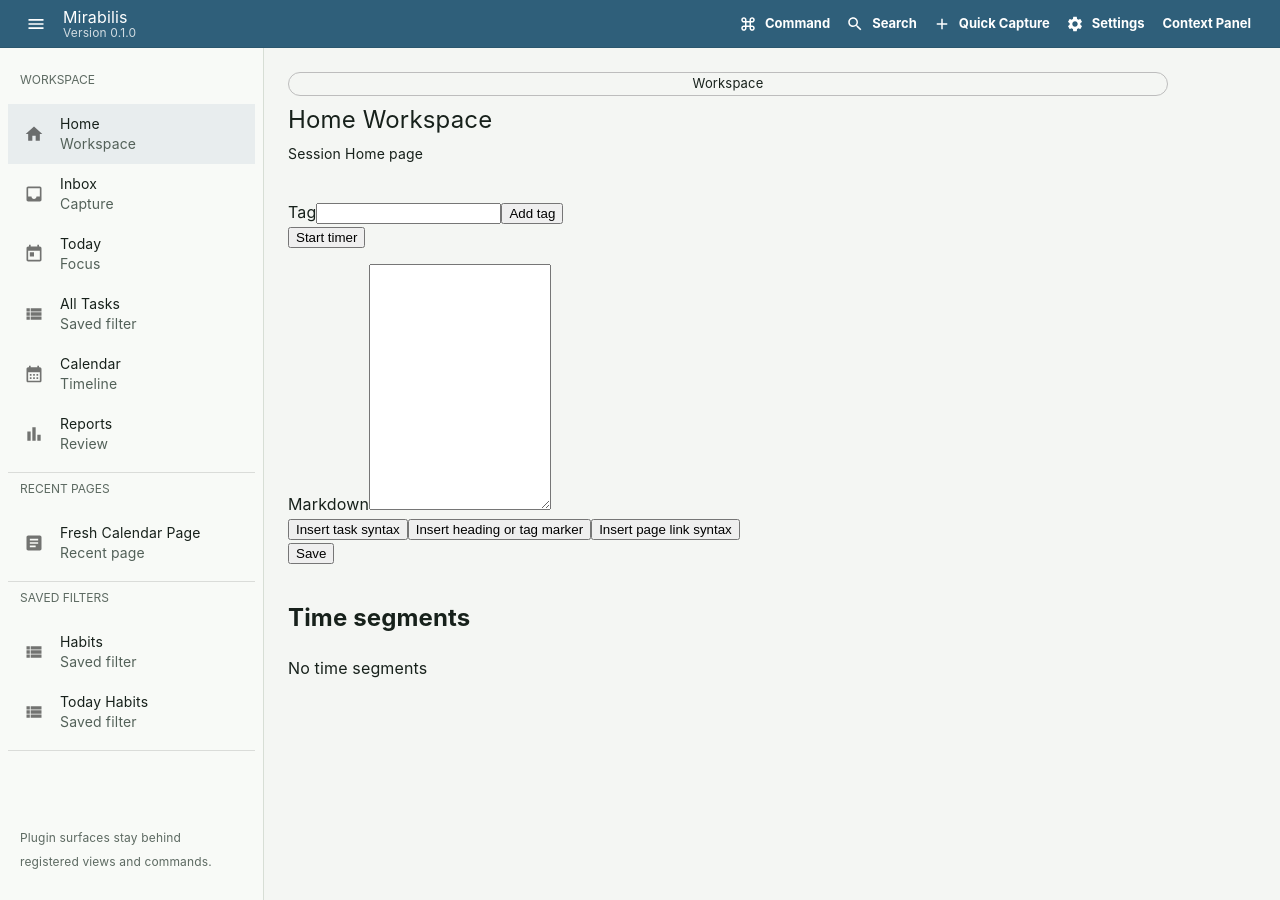
Scenario: TASK-042 Calendar route › refreshes mounted Calendar projections after runtime data changes when switching views
Click the button "Calendar Timeline".
click(72, 374)  # box [24,355,121,392]
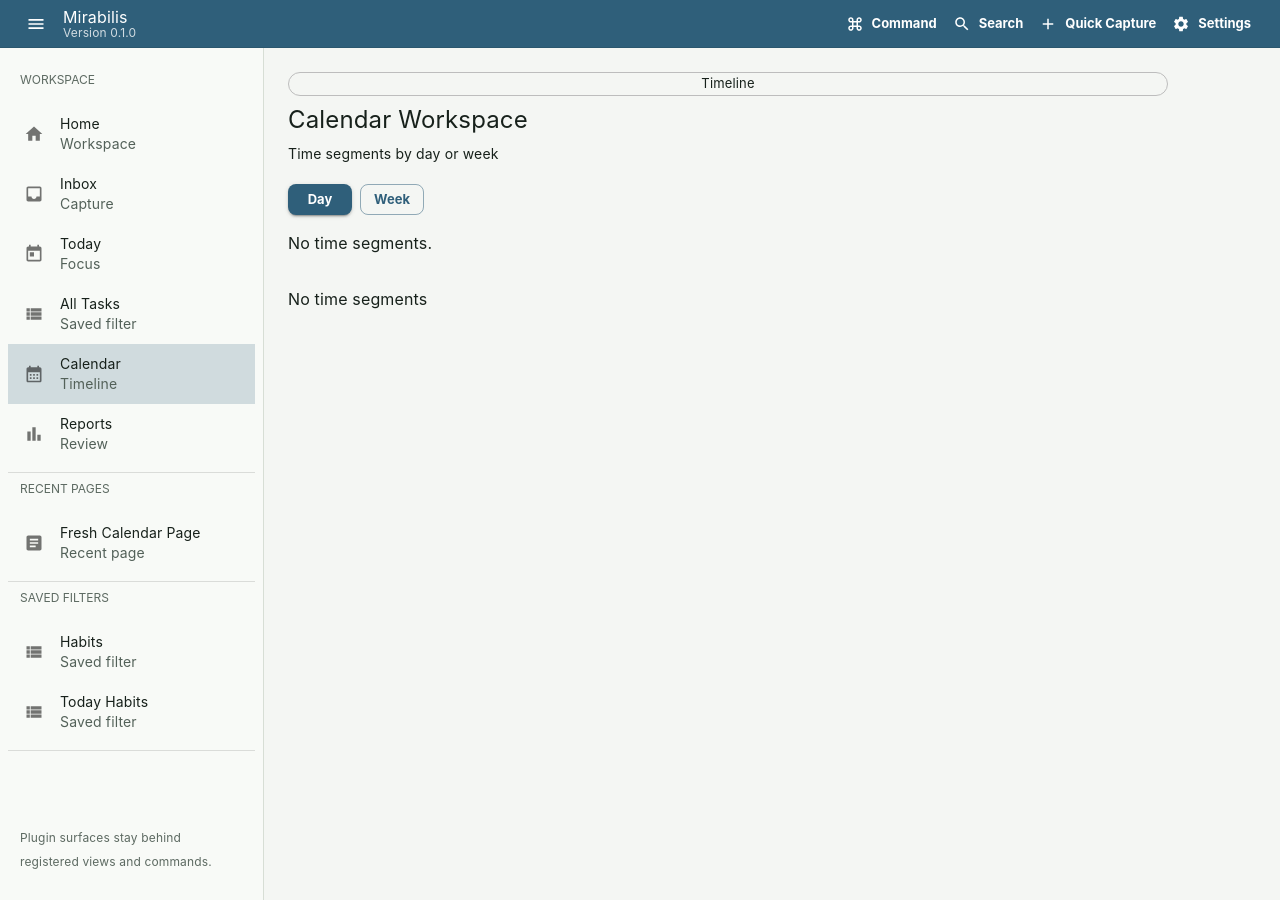
Expected: the element named "Calendar day" reads "No time segments", [288,289,427,309]
Click the button "Week".
click(392, 199)  # box [360,184,424,215]
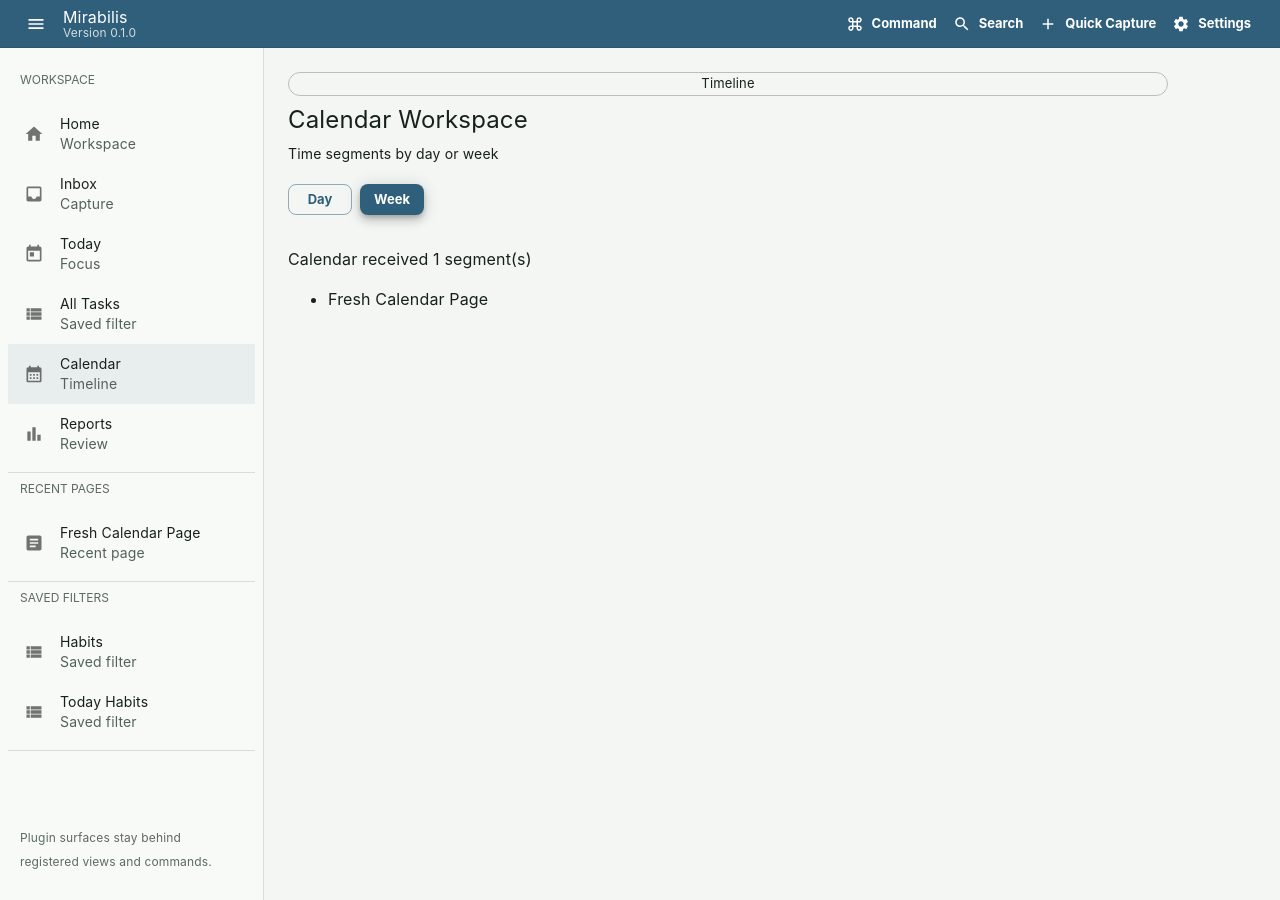
Expected: the list item "Fresh Calendar Page" is shown, [328,289,488,309]
